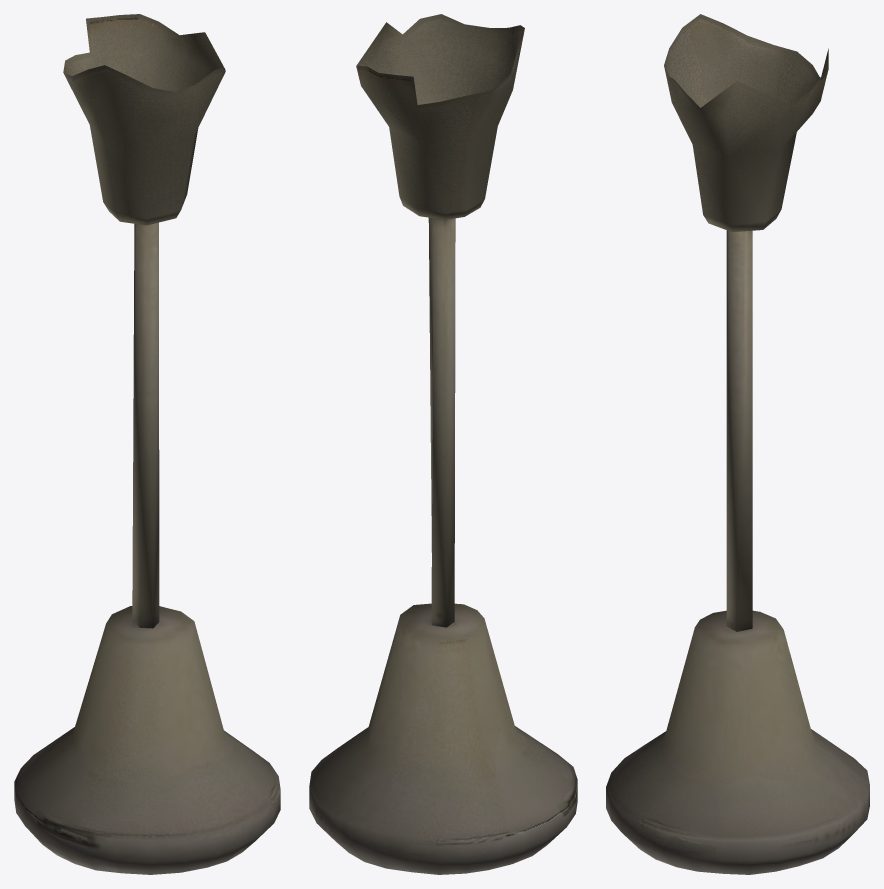
The model's file is ceiling_fan_fixed.fbx.
3 renders of one model, left to right at view 1: azimuth 30°, elevation 25°; view 2: azimuth 150°, elevation 25°; view 3: azimuth 270°, elevation 25°, orthographic.
Parts seen in each view (by area): view 1: Than; view 2: Than; view 3: Than.
Part boxes in pixels (x1,y1,x2,y2): Than: (14,14,280,874); Than: (309,14,577,874); Than: (606,14,869,874).
Size of what is drawn, in the model's own units: 19.53 by 64.65 by 19.73.
